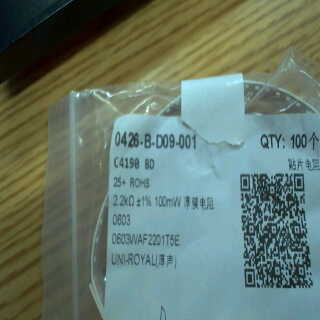2.2kR: (110, 192, 141, 211)
